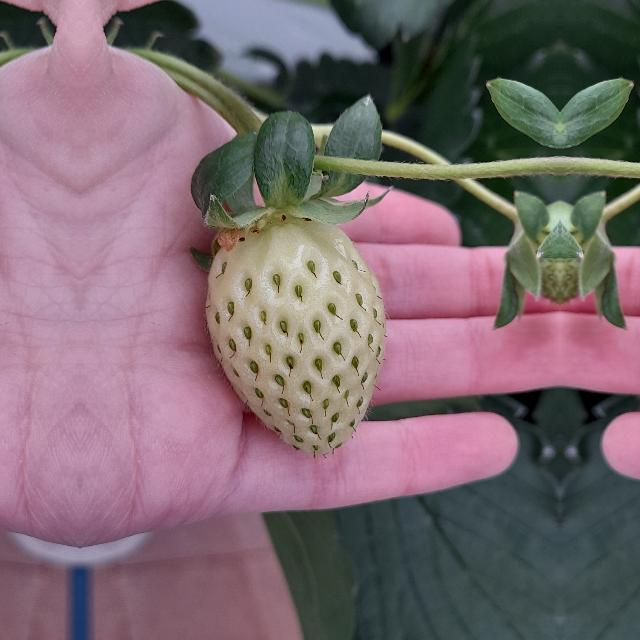Health_25: (204, 209, 386, 455)
